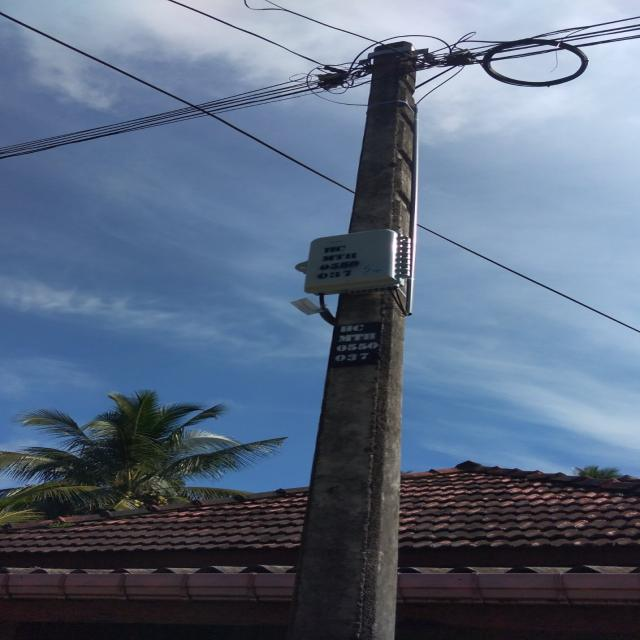light_pole: (282, 37, 444, 640)
